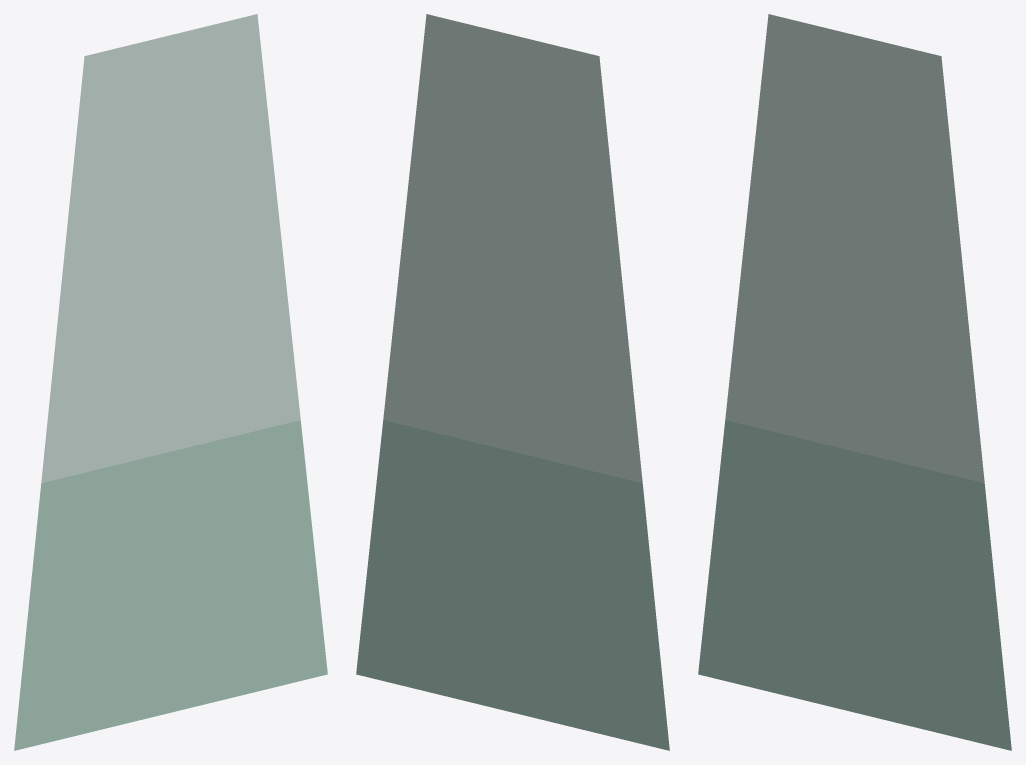
Rendered from LightBlue_02.fbx.
3 views of the same model, side by side, from view 1: azimuth 30°, elevation 25°; view 2: azimuth 150°, elevation 25°; view 3: azimuth 330°, elevation 25° (orthographic).
Parts seen in each view (by area): view 1: LightBlue_02; view 2: LightBlue_02; view 3: LightBlue_02.
Boxes of the visible parts, box(x1,y1,x2,y2) form: LightBlue_02: box(14, 14, 327, 750); LightBlue_02: box(356, 14, 669, 750); LightBlue_02: box(698, 14, 1011, 750).
Size of the model in its own units: 133 by 274 by 3.27e-05.
1 material, 1 textured.
